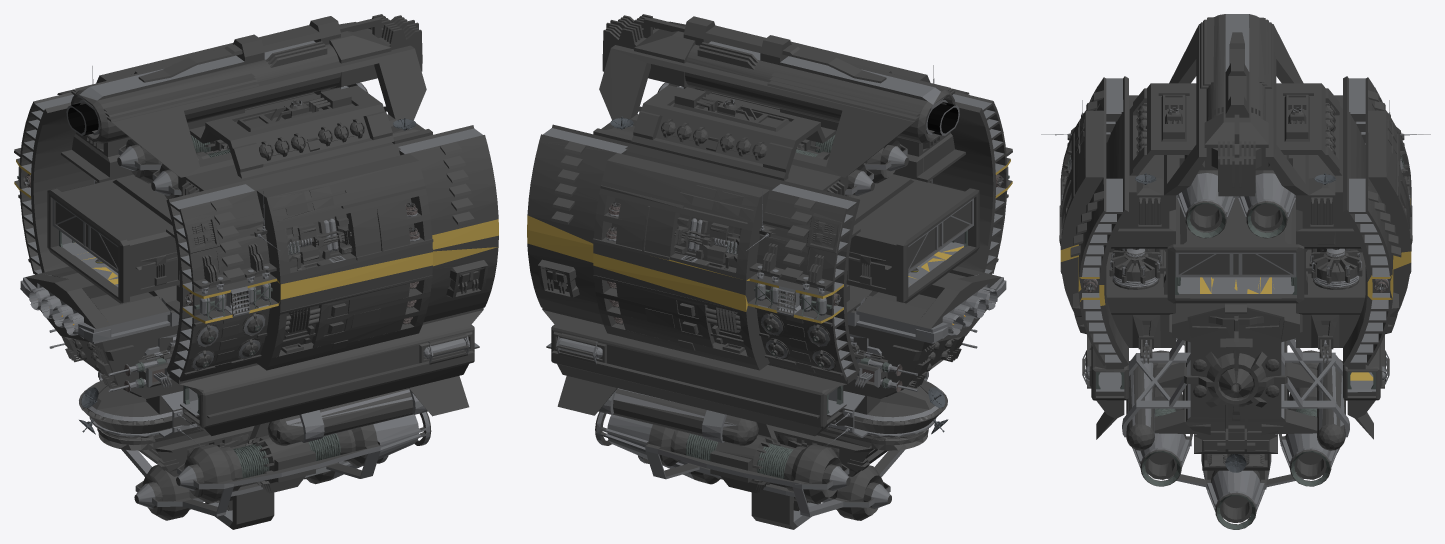
Rendered from station1.fbx.
The picture shows the model from 3 angles, left to right: view 1: azimuth 30°, elevation 25°; view 2: azimuth 150°, elevation 25°; view 3: azimuth 270°, elevation 25°; orthographic projection. The views are drawn at different scales.
Visible parts, largest first — view 1: Baseship_para_X1, Gate_01_Cylinder.011; view 2: Baseship_para_X1, Gate_01_Cylinder.011; view 3: Baseship_para_X1, Gate_02_Cylinder.018.
Boxes of the visible parts, bbox=[...] form: Baseship_para_X1: bbox=[14, 14, 498, 529]; Gate_01_Cylinder.011: bbox=[52, 198, 118, 273]; Baseship_para_X1: bbox=[527, 14, 1012, 529]; Gate_01_Cylinder.011: bbox=[908, 198, 973, 273]; Baseship_para_X1: bbox=[1041, 14, 1430, 529]; Gate_02_Cylinder.018: bbox=[1175, 252, 1296, 277].
Size of the model in its own units: 2.45 by 3.01 by 2.47.
